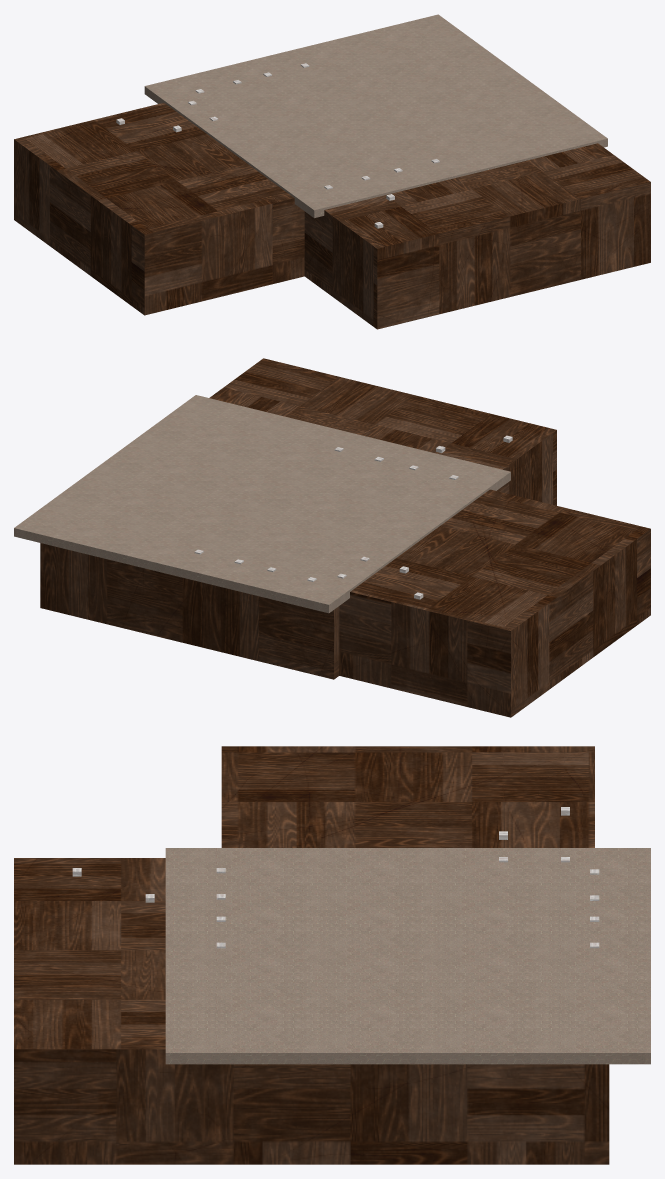
The model's file is UnityScene.fbx.
3 views of the same model, one above another, from view 1: azimuth 30°, elevation 25°; view 2: azimuth 150°, elevation 25°; view 3: azimuth 270°, elevation 25° (orthographic). The views are drawn at different scales.
Parts seen in each view (by area): view 1: Cube, Cube.003; view 2: Cube, Cube.003; view 3: Cube, Cube.003.
Boxes of the visible parts, x1=… form: Cube: x1=14, y1=102, x2=650, y2=329; Cube.003: x1=144, y1=14, x2=607, y2=218; Cube: x1=40, y1=358, x2=650, y2=717; Cube.003: x1=14, y1=395, x2=510, y2=613; Cube: x1=14, y1=746, x2=609, y2=1164; Cube.003: x1=165, y1=848, x2=650, y2=1064.
Size of the model in its own units: 24150 by 4441 by 20977.
Materials: 9 (6 with a texture image).
